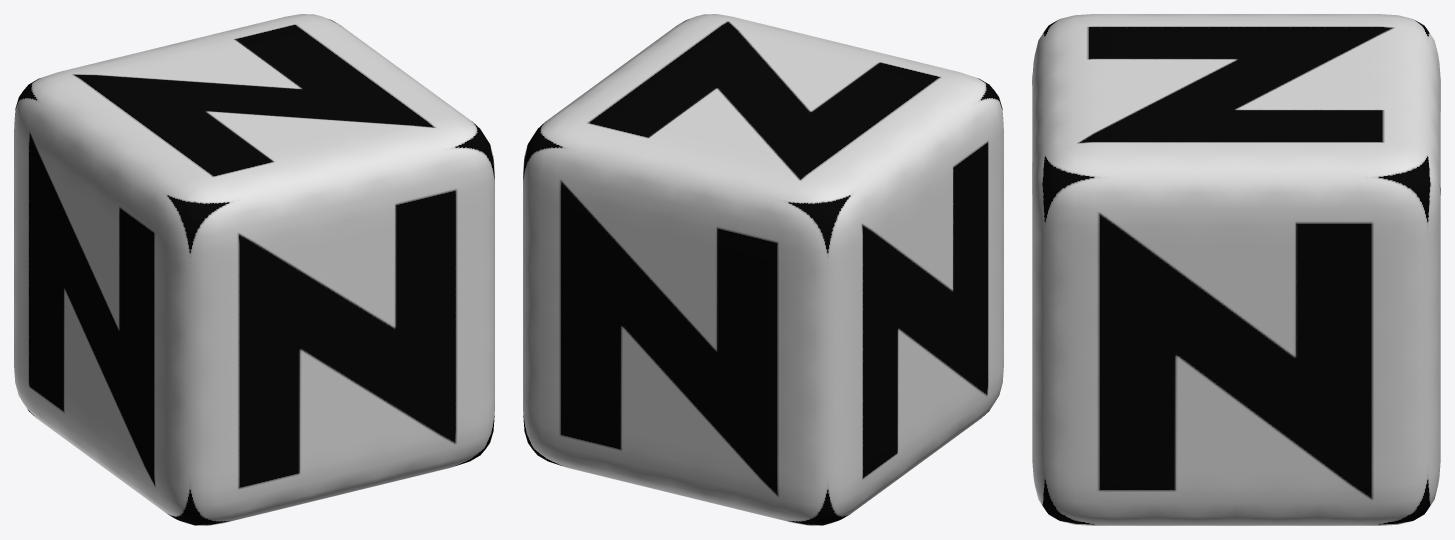
The model's file is nftportBox.glb.
3 renders of one model, left to right at view 1: azimuth 30°, elevation 25°; view 2: azimuth 150°, elevation 25°; view 3: azimuth 270°, elevation 25°, orthographic. The views are drawn at different scales.
Visible parts, largest first — view 1: Cube; view 2: Cube; view 3: Cube.
Boxes of the visible parts, x1,y1,x2,y2 form: Cube: (14, 14, 494, 525); Cube: (523, 14, 1003, 525); Cube: (1032, 14, 1440, 525).
Bounding box in the file's own units: 200 × 200 × 200.
Materials: 1 (1 with a texture image).
